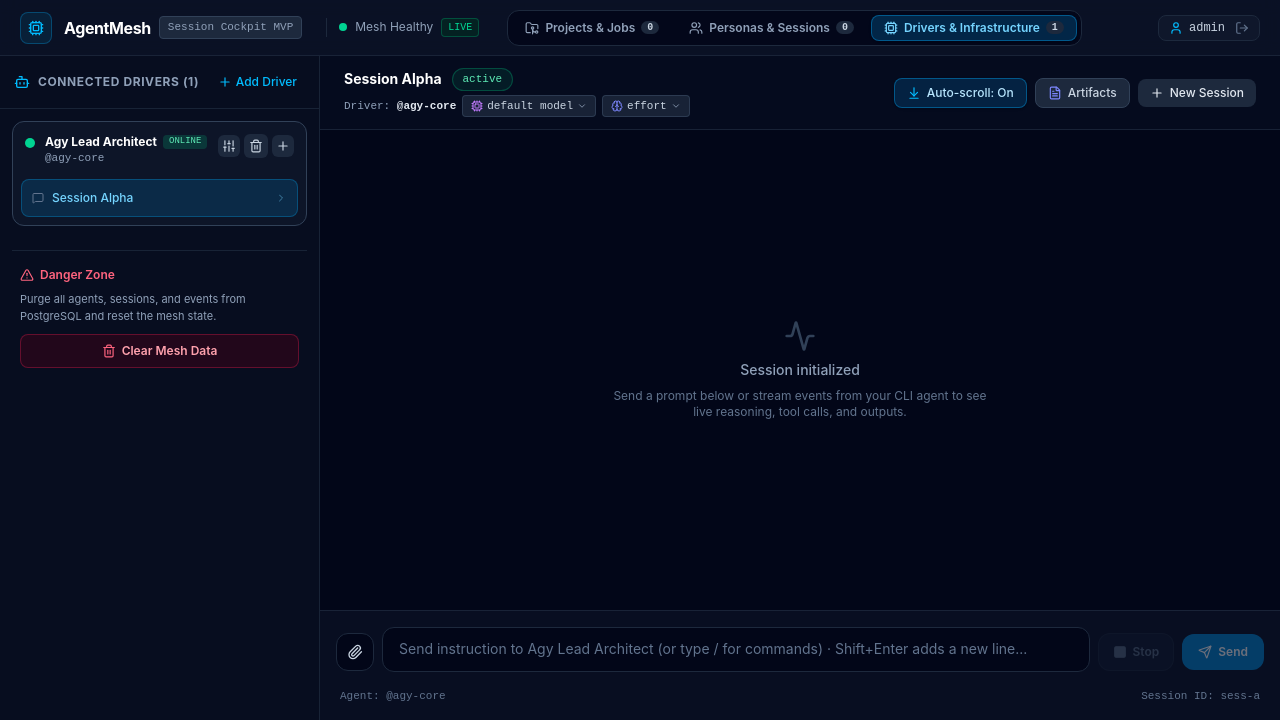
Test: Session trajectory auto-scroll to bottom › lands at the bottom when returning to the session screen after visiting another tab
The width and height of the screenshot is (1280, 720).
(page scrolled)
Step 1. Click the text "Session Alpha" → (93, 198), box top-left (52, 190), bottom-right (133, 206)
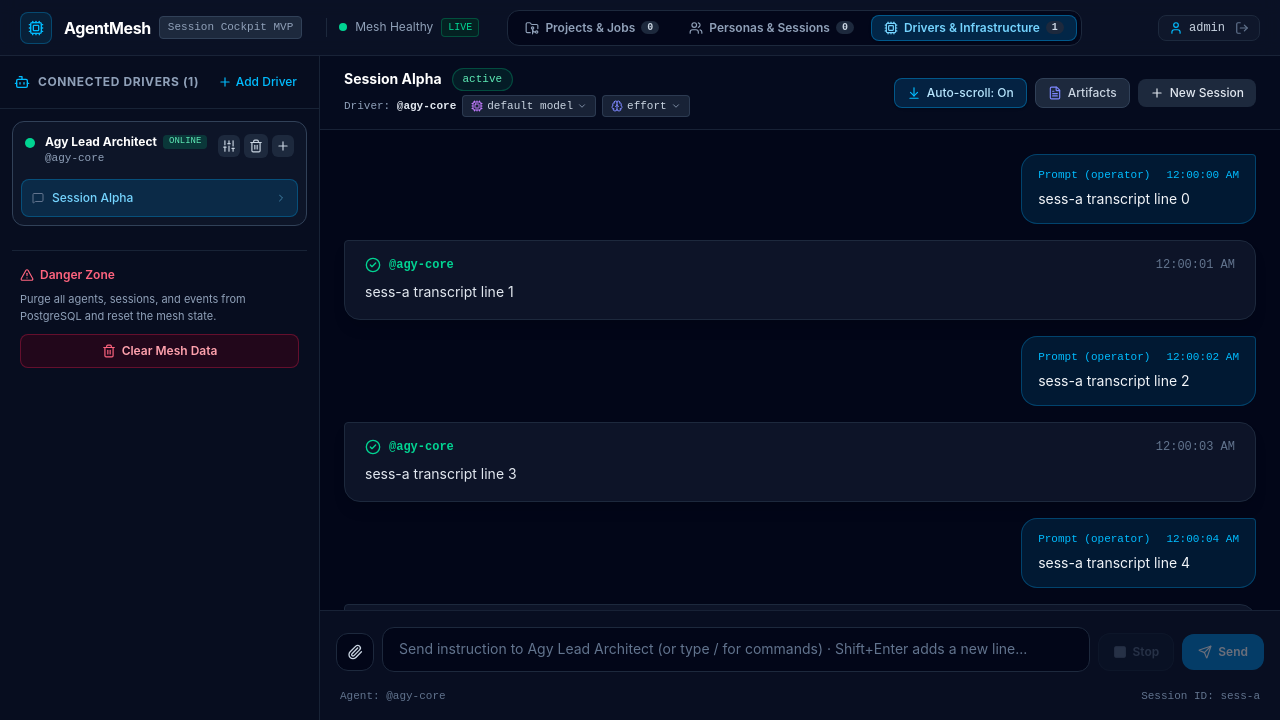
Check: the element with test id "session-timeline" is shown, box top-left (320, 130), bottom-right (1279, 610)
Step 2. Click the button "Projects & Jobs 0" → (592, 28), box top-left (512, 14), bottom-right (672, 40)
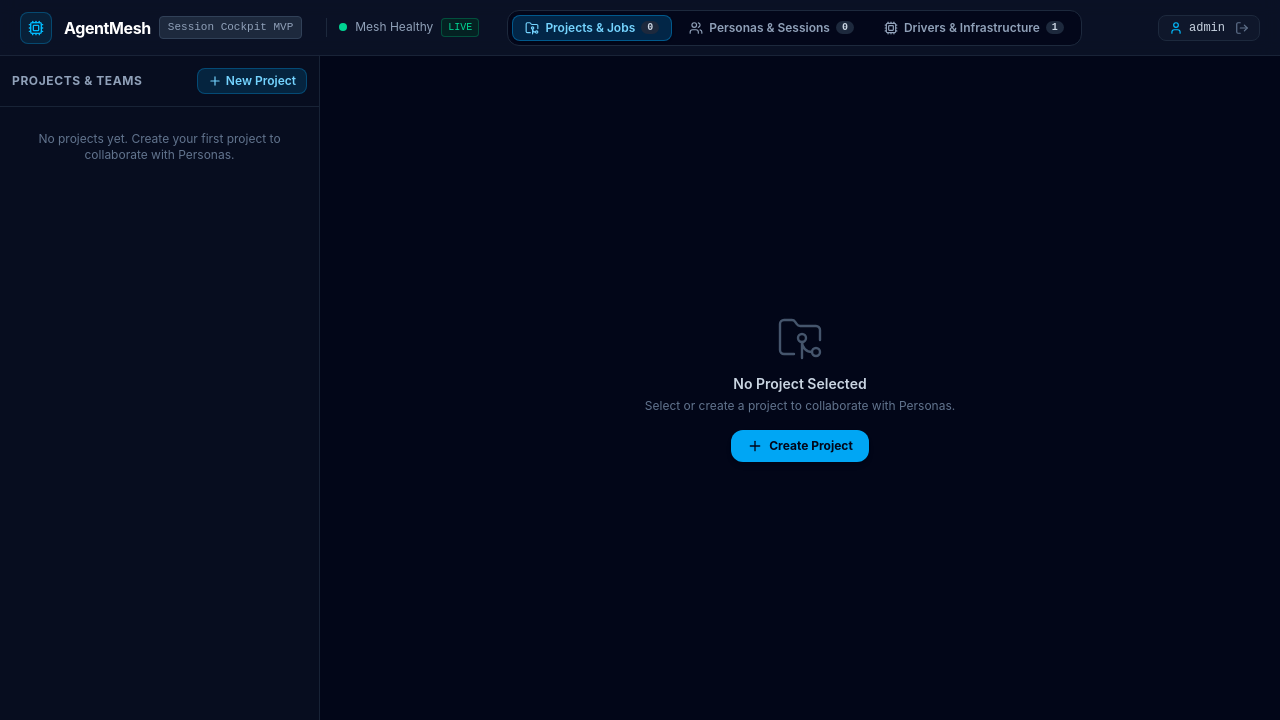
Check: the element with test id "session-timeline" is gone
Step 3. Click the button "Personas & Sessions 0" → (772, 28), box top-left (676, 14), bottom-right (867, 40)
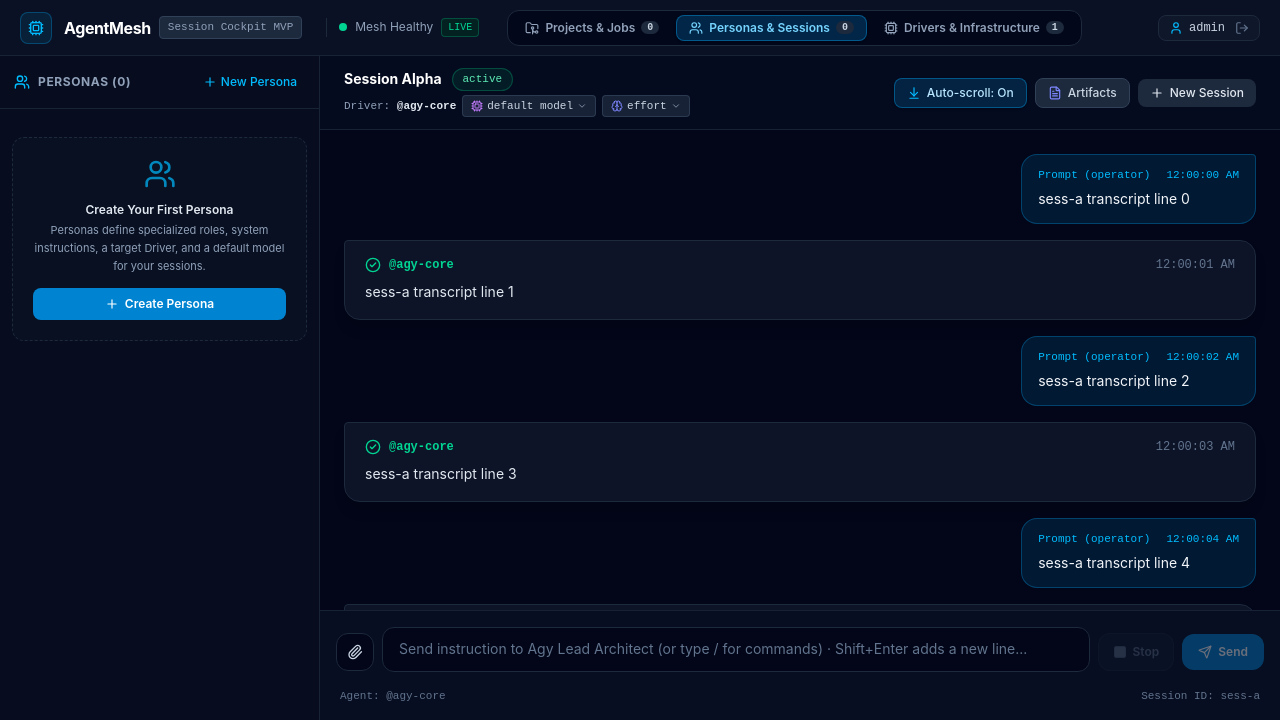
Check: the element with test id "session-timeline" is shown, box top-left (320, 130), bottom-right (1279, 610)
